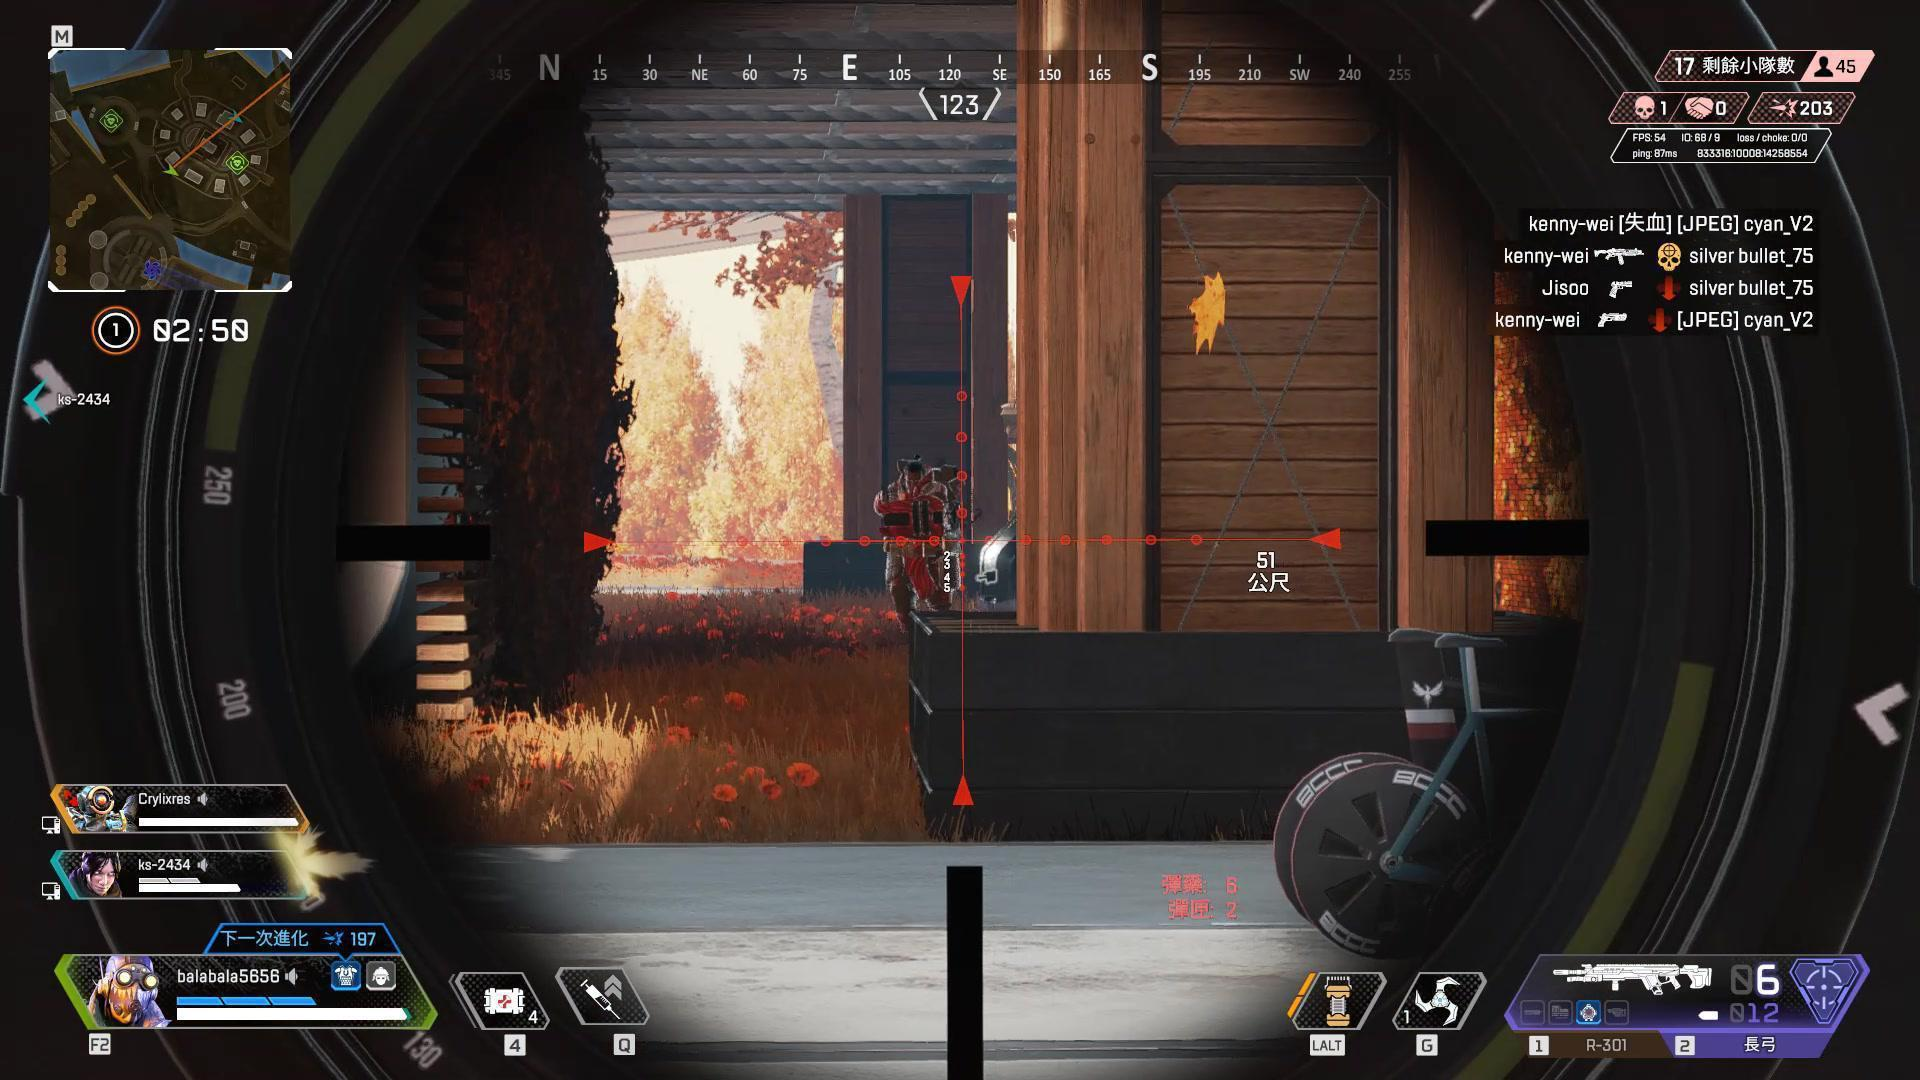avatar: (872, 455, 953, 634)
